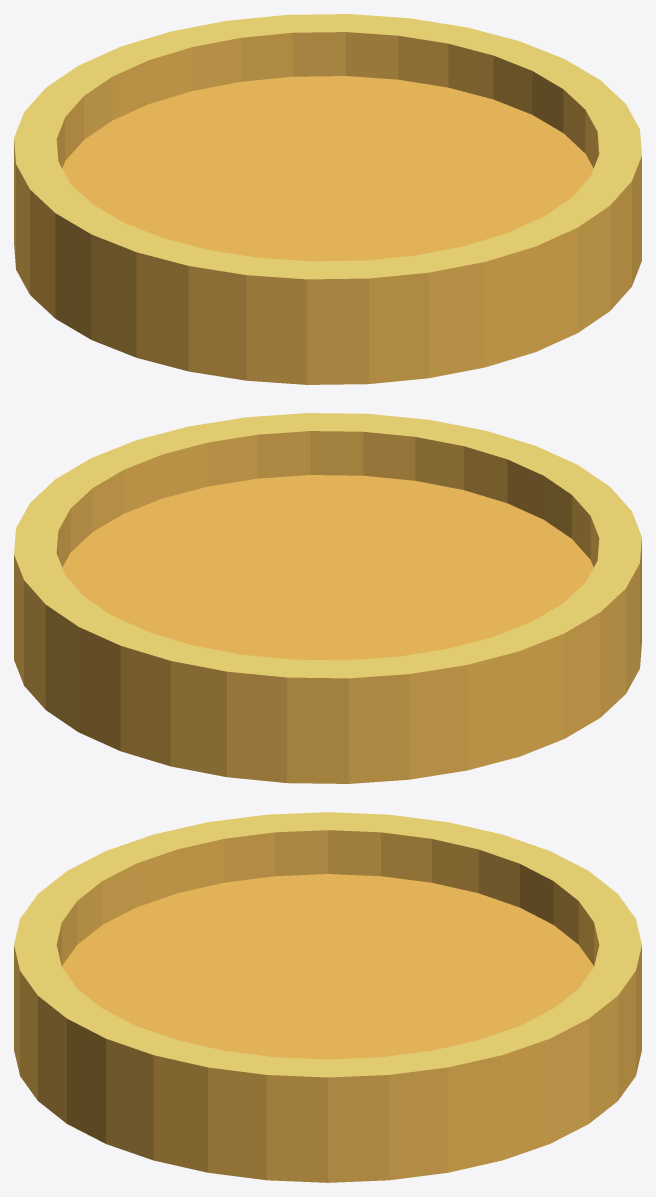
File: coin.fbx
3 renders of one model, top to bottom at view 1: azimuth 30°, elevation 25°; view 2: azimuth 150°, elevation 25°; view 3: azimuth 270°, elevation 25°, orthographic.
Visible parts, largest first — view 1: Circle; view 2: Circle; view 3: Circle.
Part boxes in pixels (left/top/right/bottom): Circle: left=14, top=14, right=641, bottom=384; Circle: left=14, top=413, right=641, bottom=783; Circle: left=14, top=812, right=641, bottom=1182.
Size of the model in its own units: 200 by 37.02 by 200.
